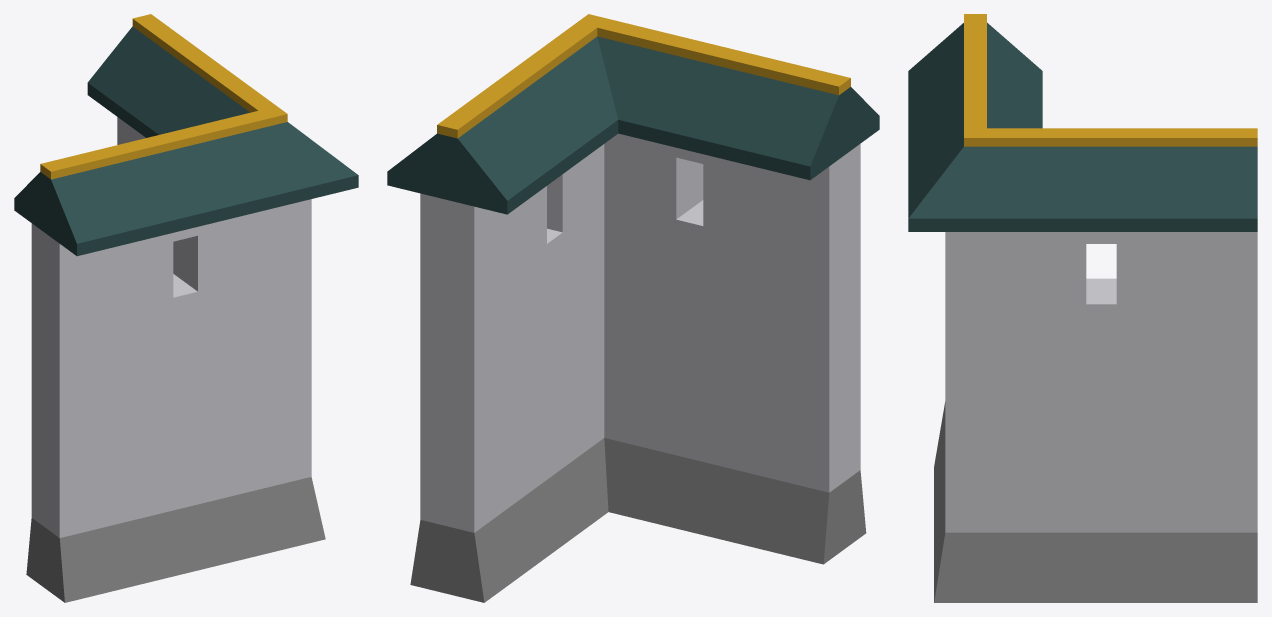
File: Asian_Prop_Building_Fence_Wall_Simple_Corner_Embrasure_03.FBX
3 renders of one model, left to right at view 1: azimuth 30°, elevation 25°; view 2: azimuth 150°, elevation 25°; view 3: azimuth 270°, elevation 25°, orthographic. The views are drawn at different scales.
Visible parts, largest first — view 1: Asian_Prop_Building_Fence_Wall_Simple_Corner_Embrasure_03; view 2: Asian_Prop_Building_Fence_Wall_Simple_Corner_Embrasure_03; view 3: Asian_Prop_Building_Fence_Wall_Simple_Corner_Embrasure_03.
Boxes of the visible parts, left/top/right/bottom form: Asian_Prop_Building_Fence_Wall_Simple_Corner_Embrasure_03: left=14, top=14, right=358, bottom=602; Asian_Prop_Building_Fence_Wall_Simple_Corner_Embrasure_03: left=387, top=14, right=879, bottom=602; Asian_Prop_Building_Fence_Wall_Simple_Corner_Embrasure_03: left=908, top=14, right=1257, bottom=602.
Size of the model in its own units: 2890 by 4128 by 2890.
